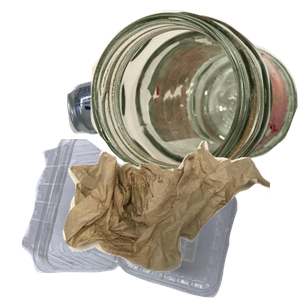glass: (90, 10, 300, 184)
metal: (65, 65, 231, 192)
plastic: (19, 139, 249, 300)
trash: (60, 138, 300, 300)
